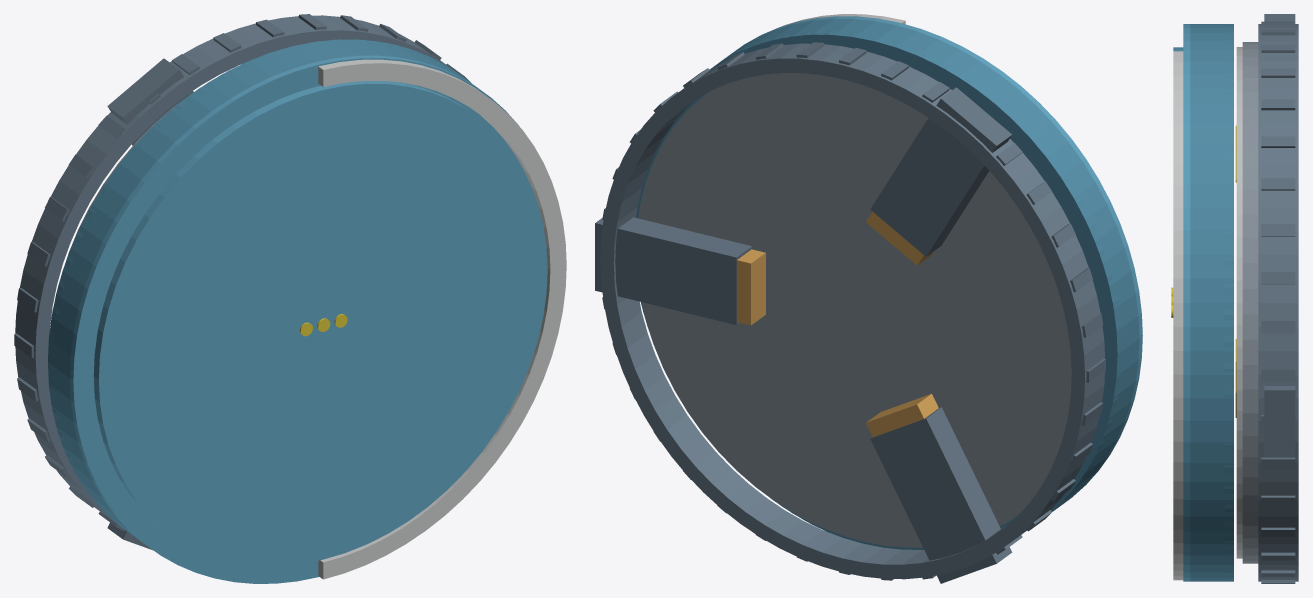
Rendered from cap_gripper_universal_65.glb.
The picture shows the model from 3 angles, left to right: view 1: azimuth 30°, elevation 25°; view 2: azimuth 150°, elevation 25°; view 3: azimuth 270°, elevation 25°; orthographic projection.
Parts seen in each view (by area): view 1: top_lid, top_lid_skirt, scroll_collar, folding_bail, puck_shell_wall, jaw_1, puck_shell_floor; view 2: chuck_hub, scroll_collar, puck_shell_wall, jaw_2, jaw_1, jaw_0, puck_shell_floor, top_lid_skirt, silicone_pad_0, silicone_pad_2, silicone_pad_1; view 3: puck_shell_wall, scroll_collar, chuck_hub, folding_bail, top_lid_skirt, flexure_outer_ring, jaw_0, puck_shell_floor, rib_1, rib_2, rib_3, rib_4 (+12 smaller).
Boxes of the visible parts, <box> form: top_lid: <box>93,81,547,565</box>; top_lid_skirt: <box>70,55,526,583</box>; scroll_collar: <box>15,15,452,523</box>; folding_bail: <box>318,59,566,579</box>; puck_shell_wall: <box>48,39,477,540</box>; jaw_1: <box>107,58,193,145</box>; puck_shell_floor: <box>49,39,451,514</box>; chuck_hub: <box>638,73,1071,547</box>; scroll_collar: <box>600,43,1104,579</box>; puck_shell_wall: <box>636,18,1139,549</box>; jaw_2: <box>870,407,1012,583</box>; jaw_1: <box>870,87,1012,256</box>; jaw_0: <box>595,217,751,325</box>; puck_shell_floor: <box>636,31,1120,549</box>; top_lid_skirt: <box>742,16,1142,499</box>; silicone_pad_0: <box>737,249,765,325</box>; silicone_pad_2: <box>866,393,938,437</box>; silicone_pad_1: <box>866,211,933,265</box>; puck_shell_wall: <box>1190,24,1233,581</box>; scroll_collar: <box>1258,24,1298,581</box>; chuck_hub: <box>1242,42,1258,563</box>; folding_bail: <box>1173,51,1183,580</box>; top_lid_skirt: <box>1183,24,1190,581</box>; flexure_outer_ring: <box>1236,47,1242,558</box>; jaw_0: <box>1264,386,1295,457</box>; puck_shell_floor: <box>1224,24,1233,581</box>; rib_1: <box>1261,369,1295,381</box>; rib_2: <box>1261,321,1295,333</box>; rib_3: <box>1261,272,1295,284</box>; rib_4: <box>1261,224,1295,236</box>.
Size of the model in its own units: 73.35 by 72.7 by 16.4.
